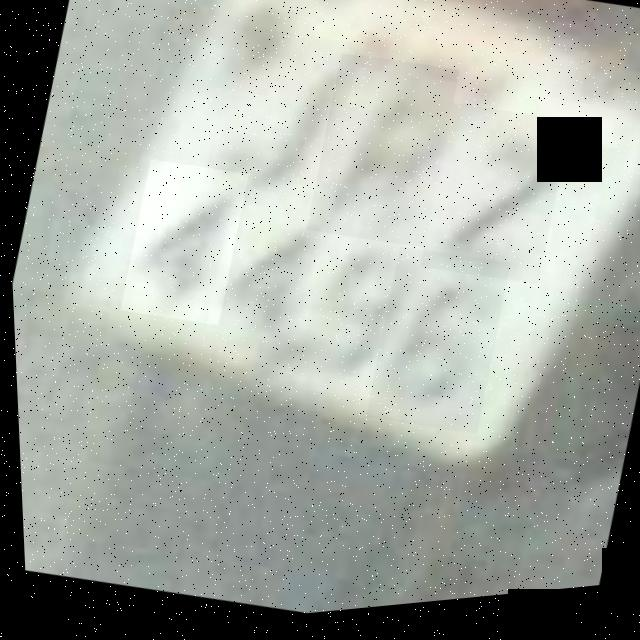4: (112, 154, 252, 336), (196, 184, 334, 359)
6: (355, 245, 513, 451)
B: (297, 50, 464, 266)
J: (192, 20, 364, 231)
Z: (412, 103, 574, 304)
